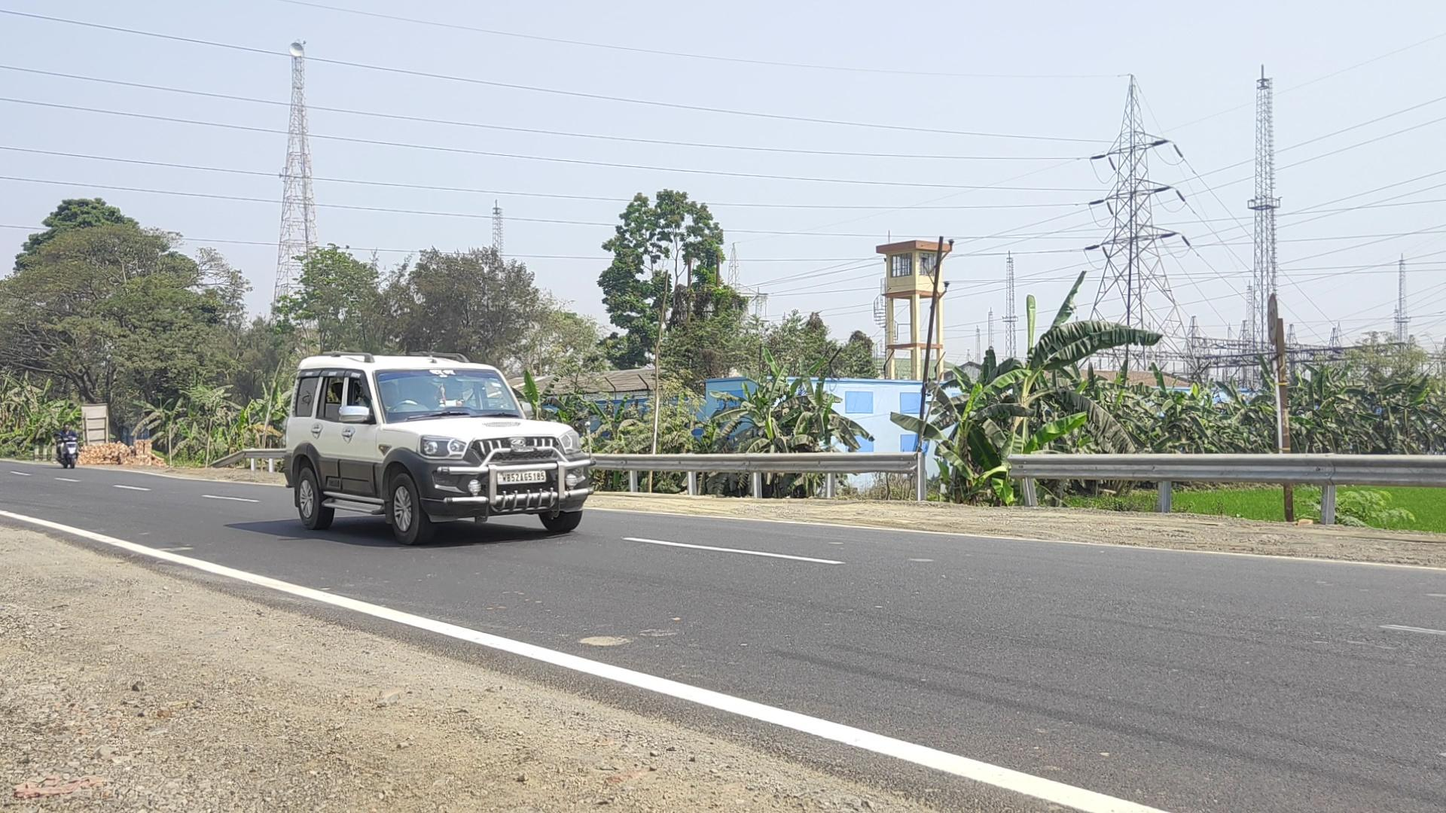bike: (54, 422, 81, 469)
car: (282, 351, 595, 547)
